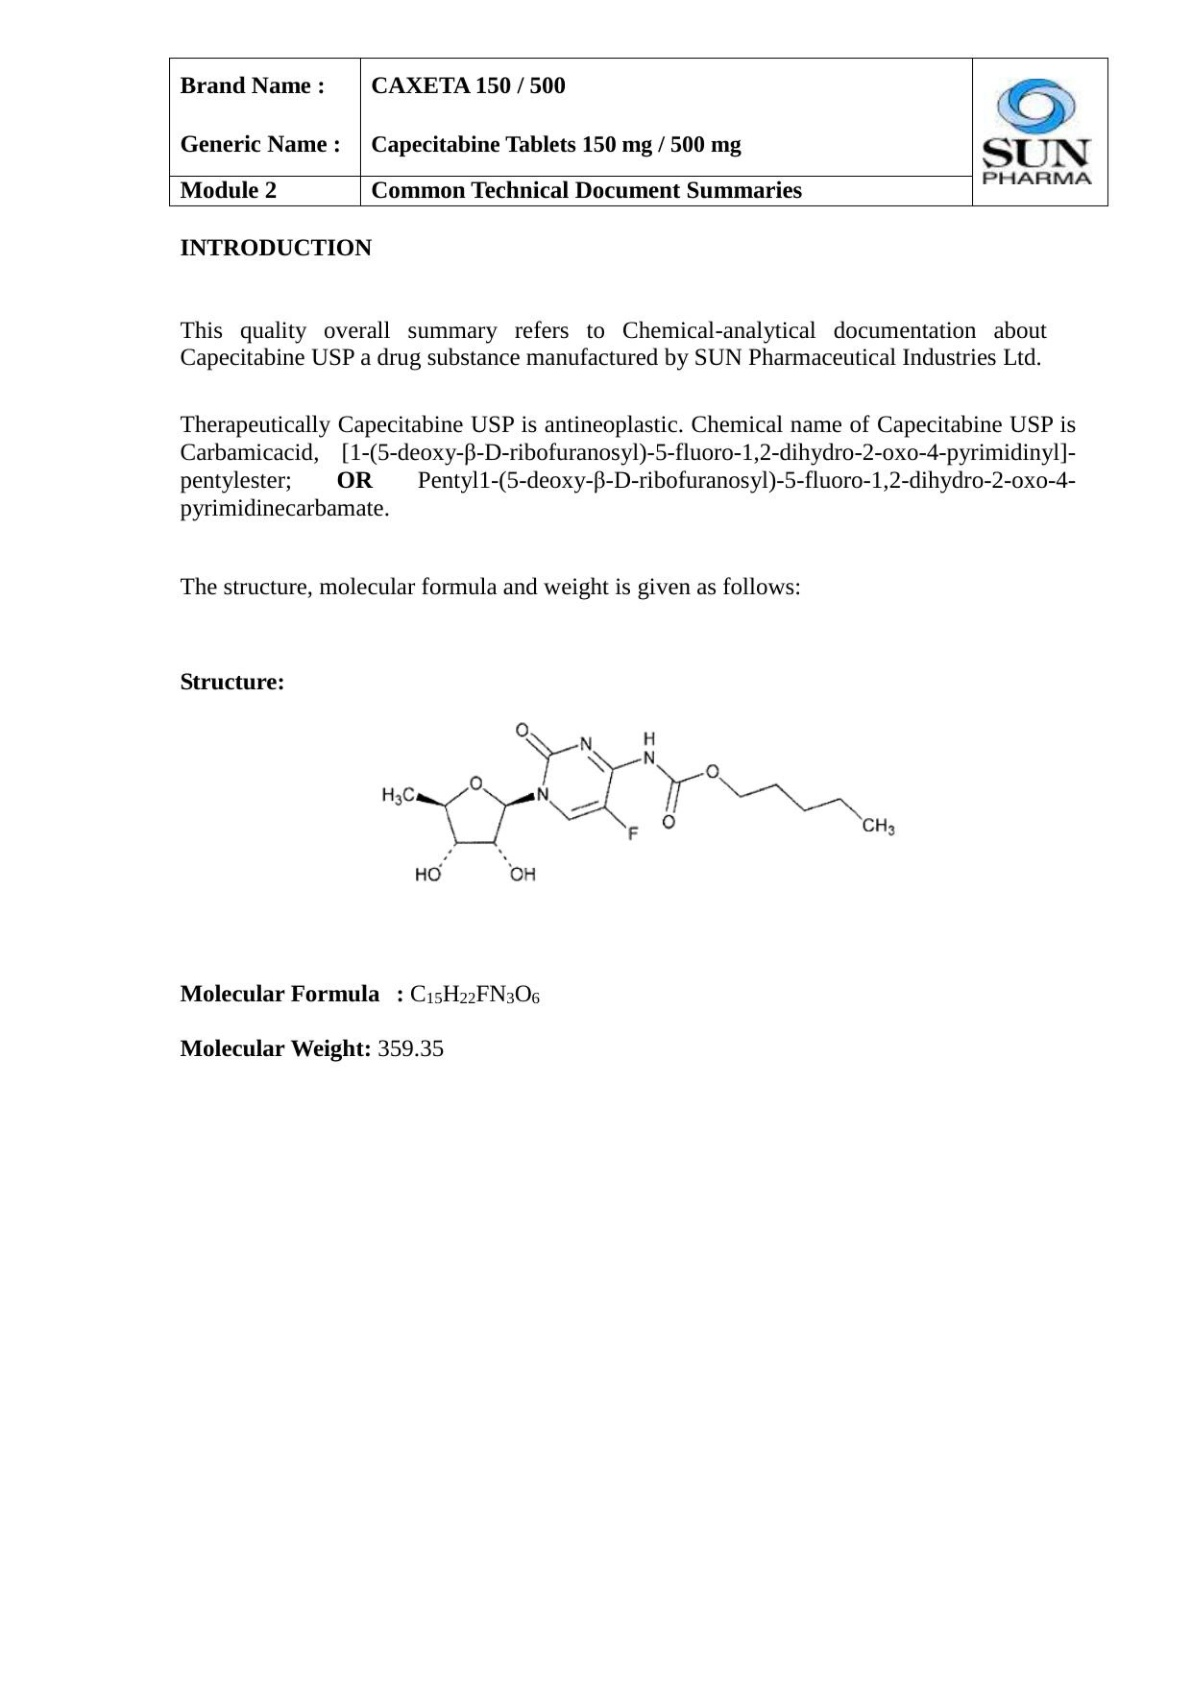merged_cells: (168, 55, 1109, 208)
